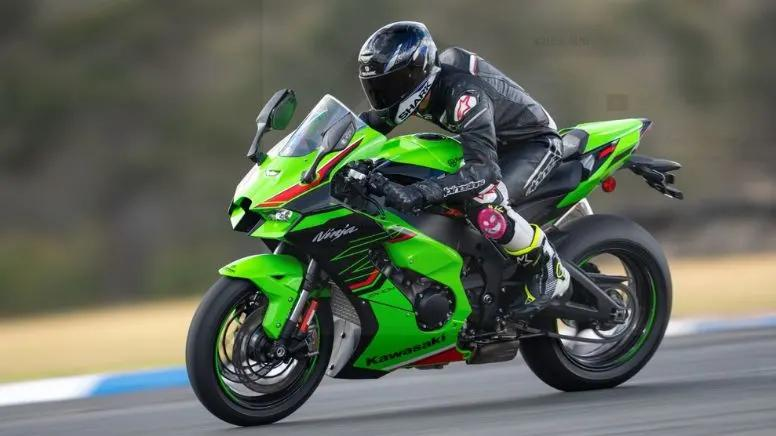motorcycle: (182, 86, 686, 435)
